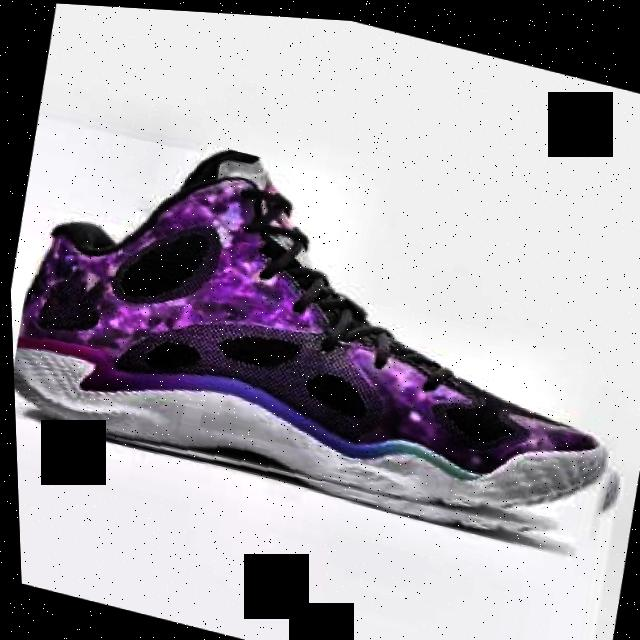shoe: (3, 103, 640, 564)
